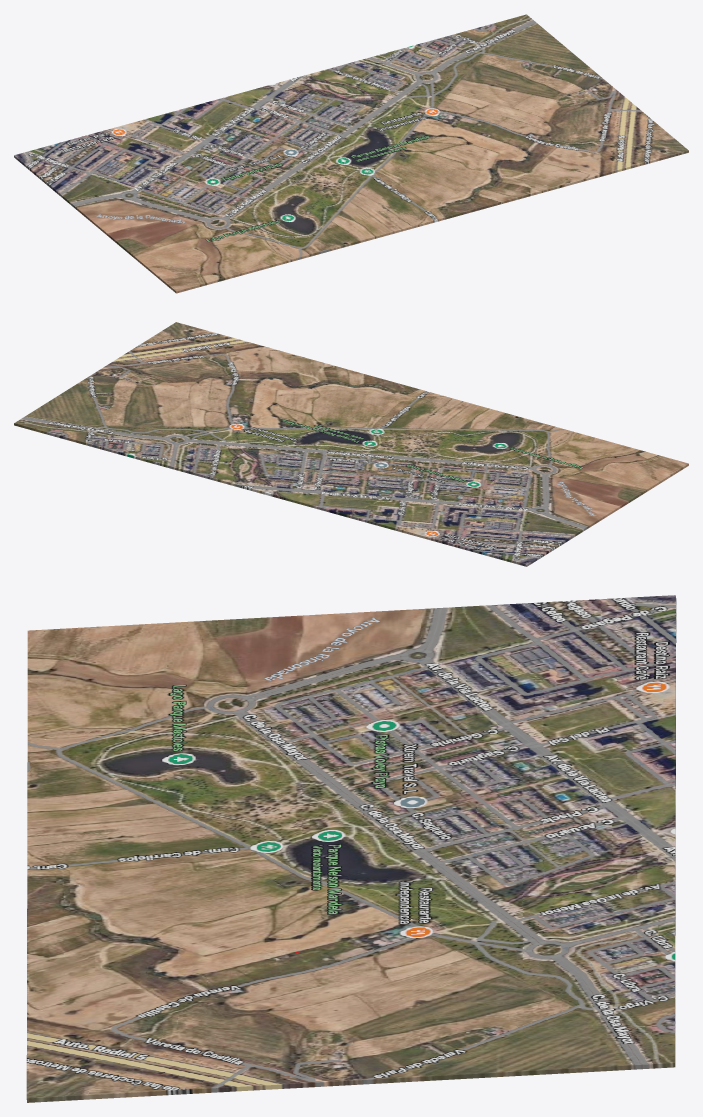
File: parque2.glb
The picture shows the model from 3 angles, top to bottom: view 1: azimuth 30°, elevation 25°; view 2: azimuth 150°, elevation 25°; view 3: azimuth 270°, elevation 25°; orthographic projection. The views are drawn at different scales.
Parts seen in each view (by area): view 1: google; view 2: google; view 3: google.
Boxes of the visible parts, x1,y1,x2,y2 form: google: (14,14,688,293); google: (14,322,688,566); google: (26,595,676,1102).
Bounding box in the file's own units: 15.85 × 1.06 × 8.69.
Materials: 1 (1 with a texture image).
